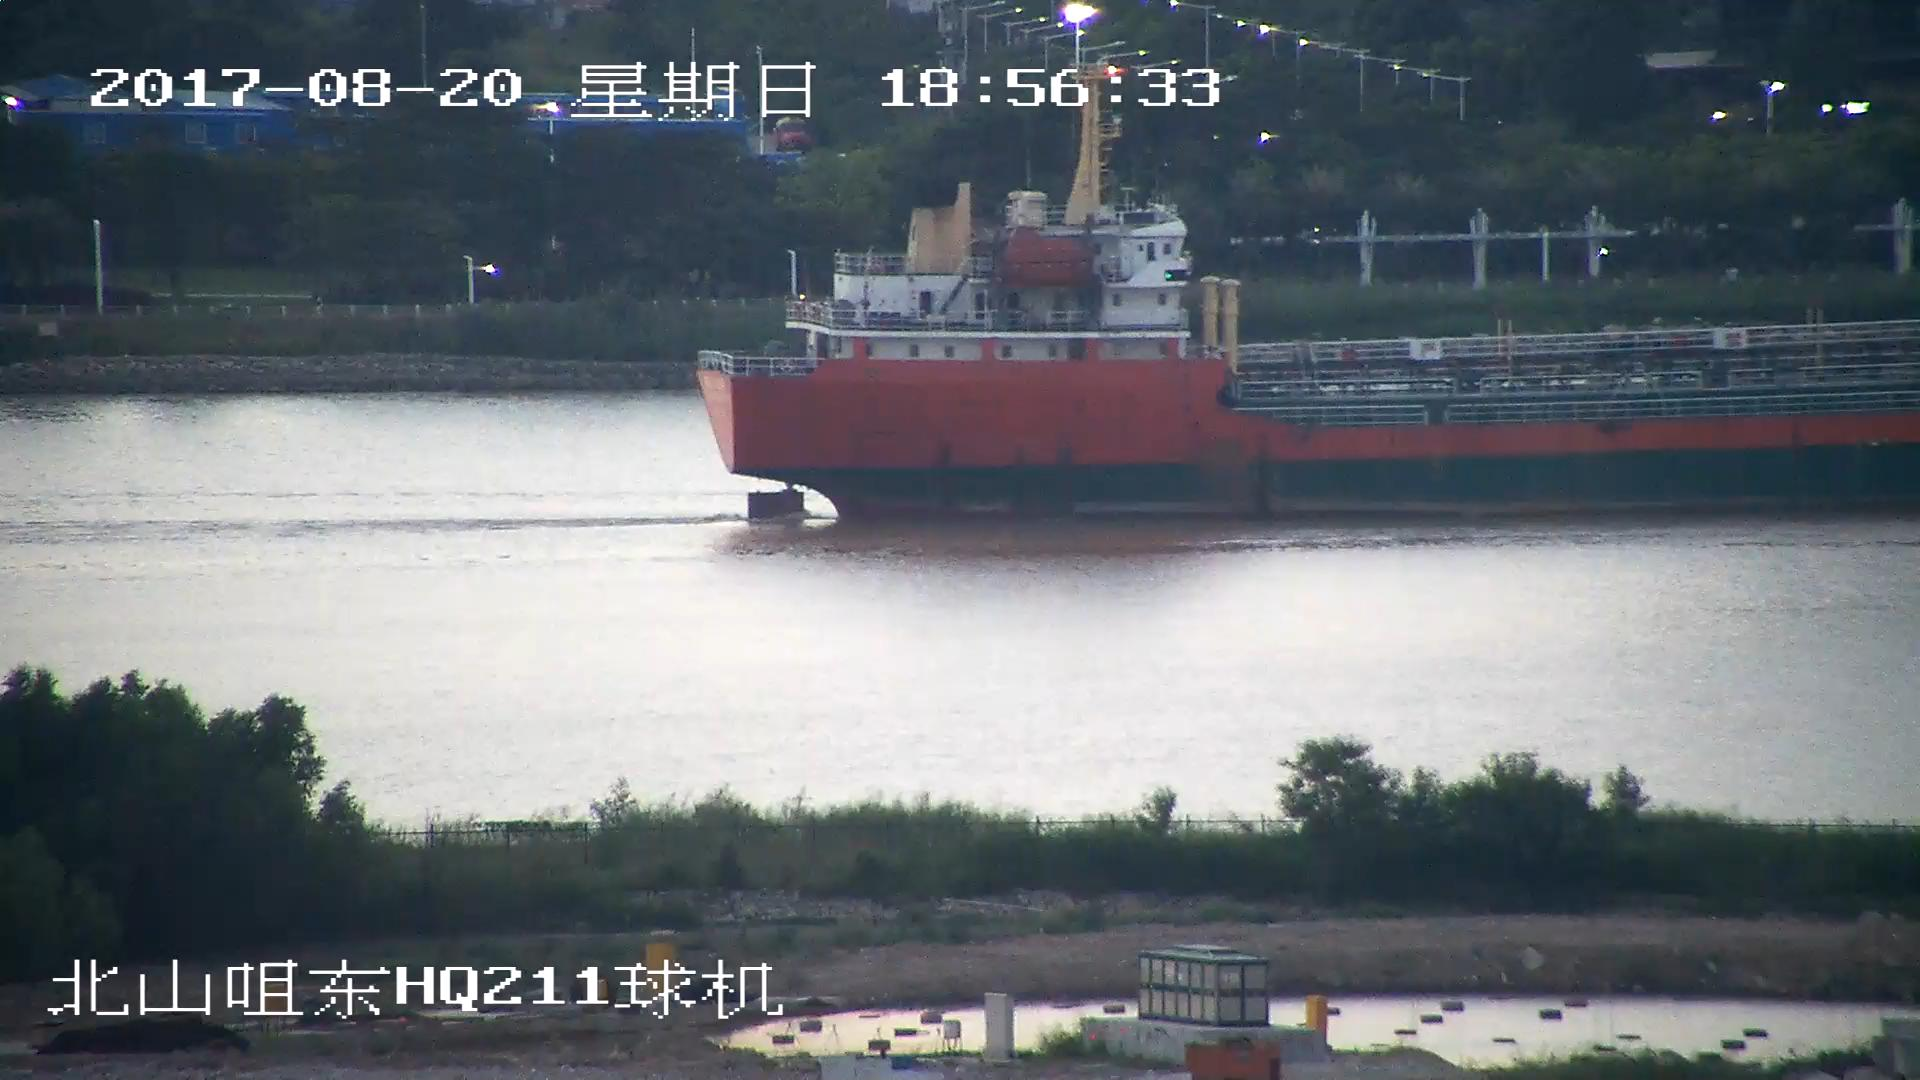general cargo ship: (697, 128, 1920, 510)
